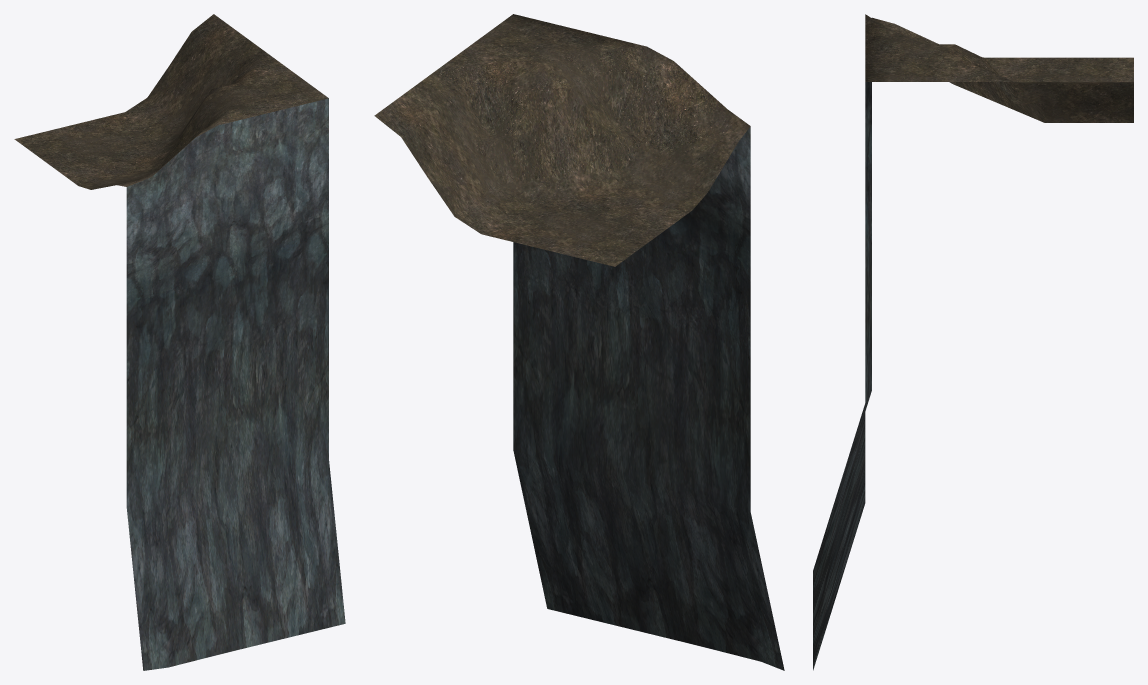
The model's file is terrain_base01.fbx.
3 renders of one model, left to right at view 1: azimuth 30°, elevation 25°; view 2: azimuth 150°, elevation 25°; view 3: azimuth 270°, elevation 25°, orthographic. The views are drawn at different scales.
Visible parts, largest first — view 1: terrain_base01-0; view 2: terrain_base01-0; view 3: terrain_base01-0.
Boxes of the visible parts, left/top/right/bottom form: terrain_base01-0: left=14, top=14, right=345, bottom=670; terrain_base01-0: left=374, top=14, right=784, bottom=670; terrain_base01-0: left=813, top=14, right=1133, bottom=670.
Size of the model in its own units: 23.15 by 54.78 by 26.86.
